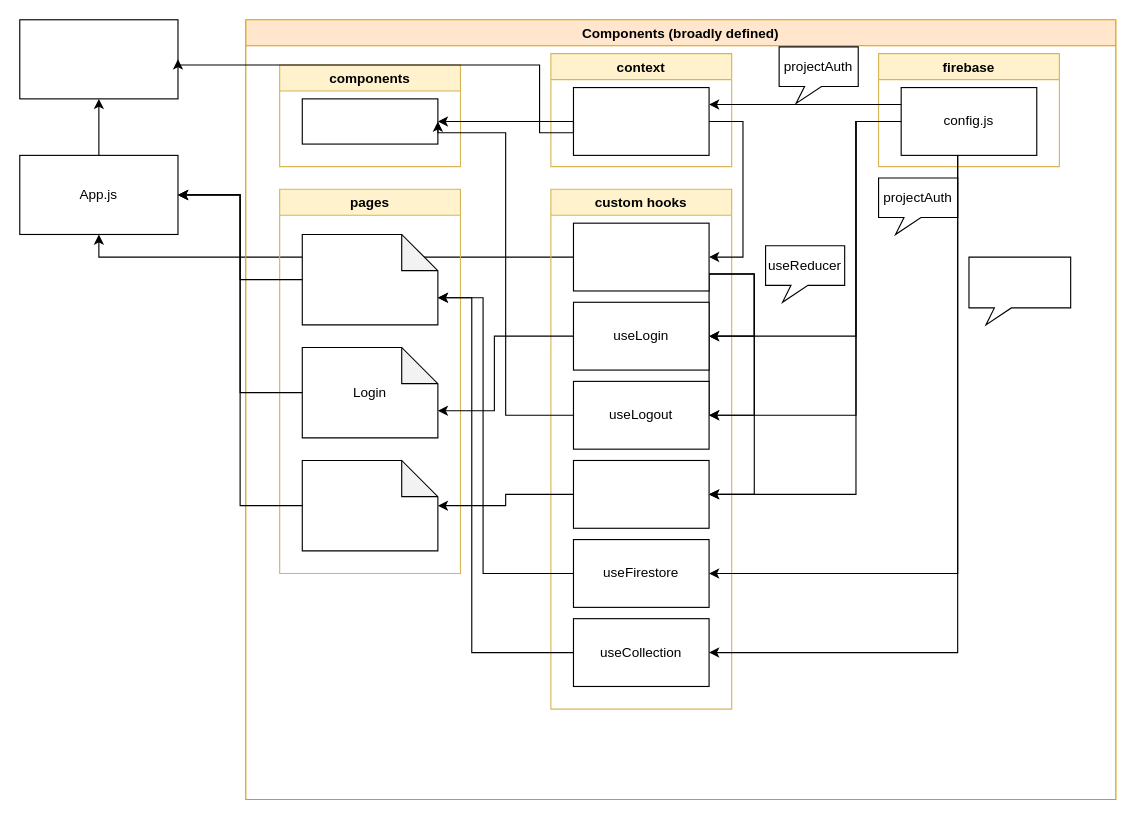
This 1136x819 diagram has some shape labels left out. Each missing label, with the centre of its shape:
"AuthContext" goes at point 640,120.
"Home (+Transaction form)" goes at point 369,279.
"Index.js" goes at point 98,59.
"Navbar" goes at point 369,121.
"projectFirestore" goes at point 1019,290.
"Sign up" goes at point 369,505.
"useAuthContext" goes at point 640,256.
"useSignup" goes at point 640,493.
